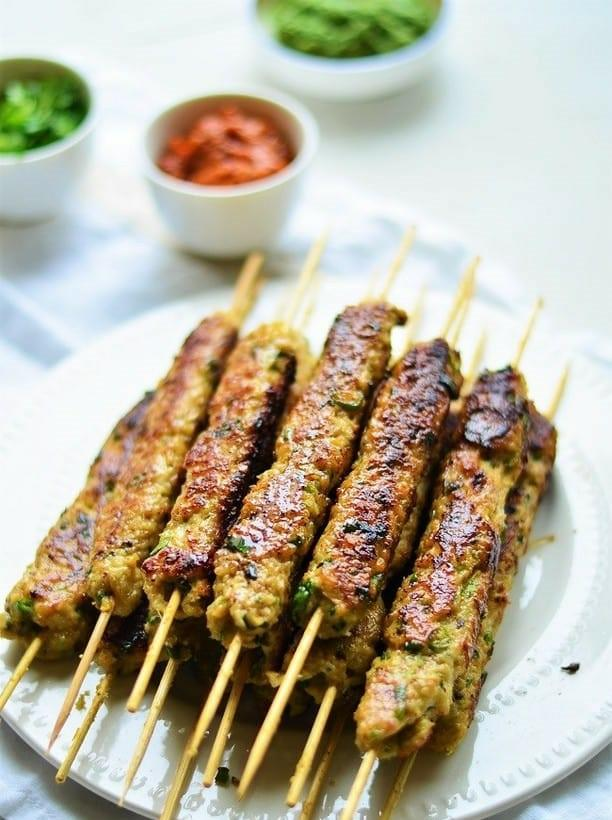Kebab: (210, 297, 411, 650), (356, 365, 531, 757), (405, 409, 556, 761), (300, 339, 464, 645), (137, 325, 302, 618), (89, 309, 237, 613), (4, 380, 157, 661)
